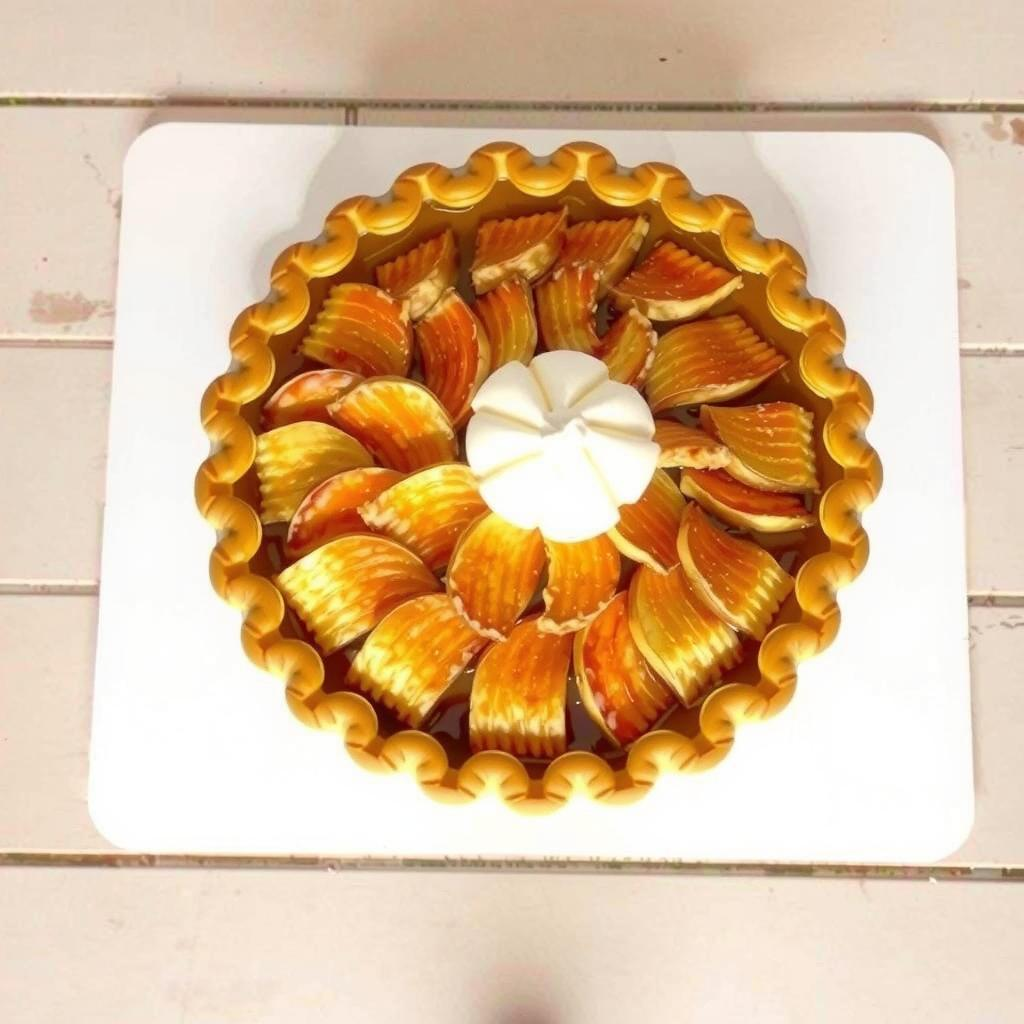pie: (186, 130, 891, 813)
